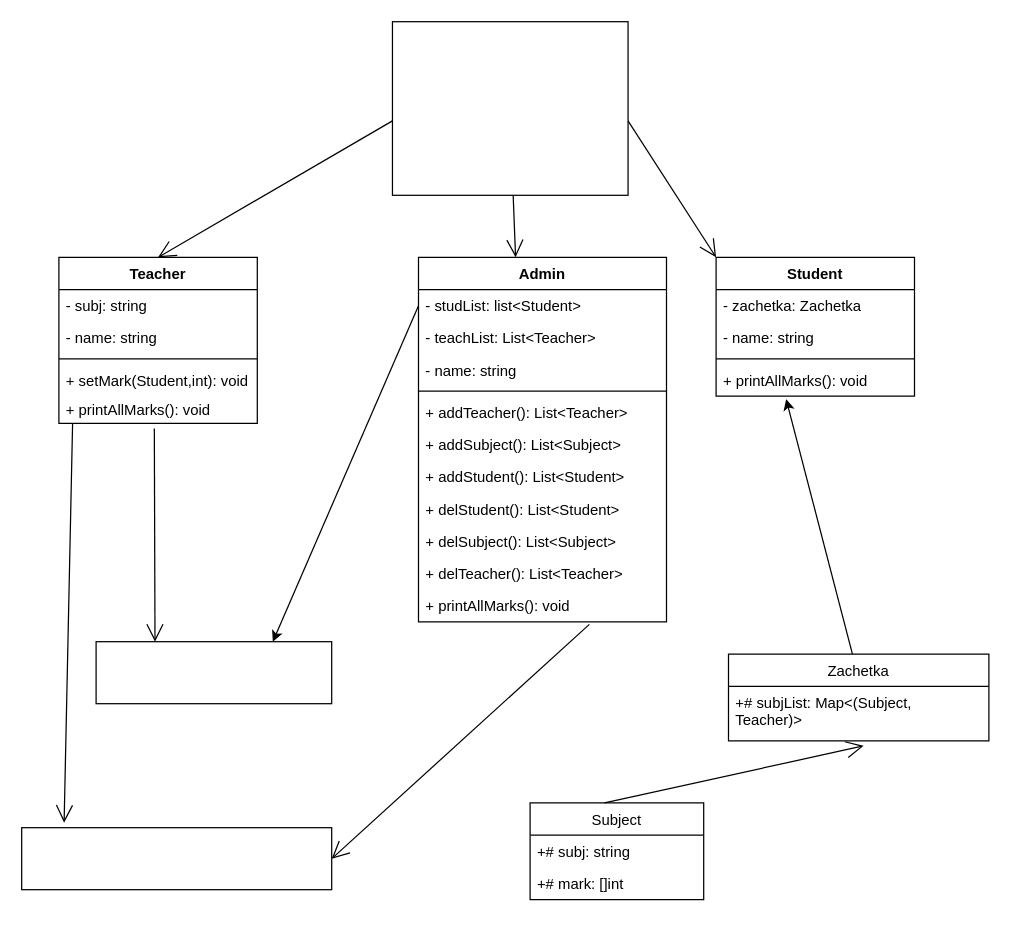
Image size: 1011x925. Some labels were removed from this diagram. The centre of each missing label's shape, as x and y in pixels:
"+ printAllStudentsList(): void" goes at (x=213, y=672).
"+ printStudentListMarkSubject(subj): void" goes at (x=176, y=858).
"<<Interface>> User + virtual printAllMarks()=0: void" goes at (x=509, y=107).
